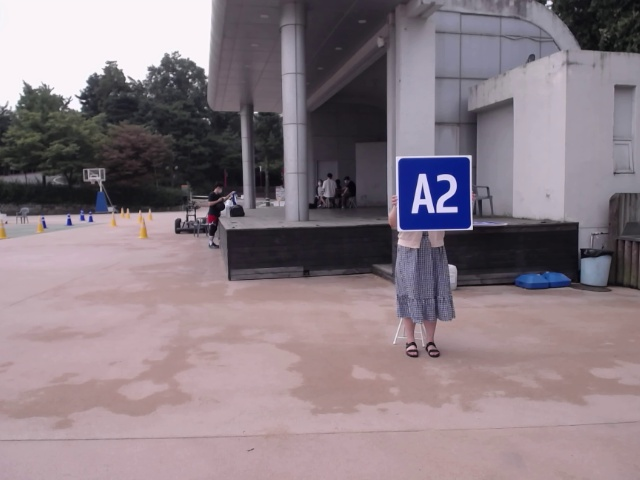delivery_a2: (397, 156, 472, 231)
